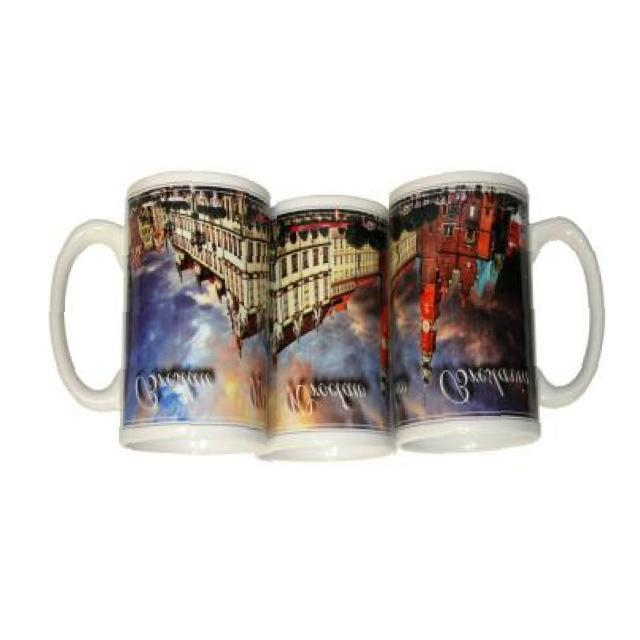cup: (45, 162, 278, 463), (389, 158, 612, 462)
